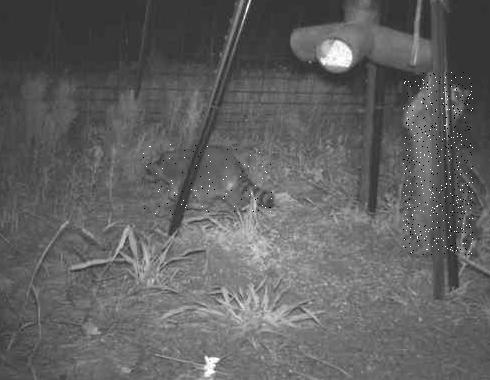Raccoon: (404, 73, 474, 256), (142, 144, 278, 215)
